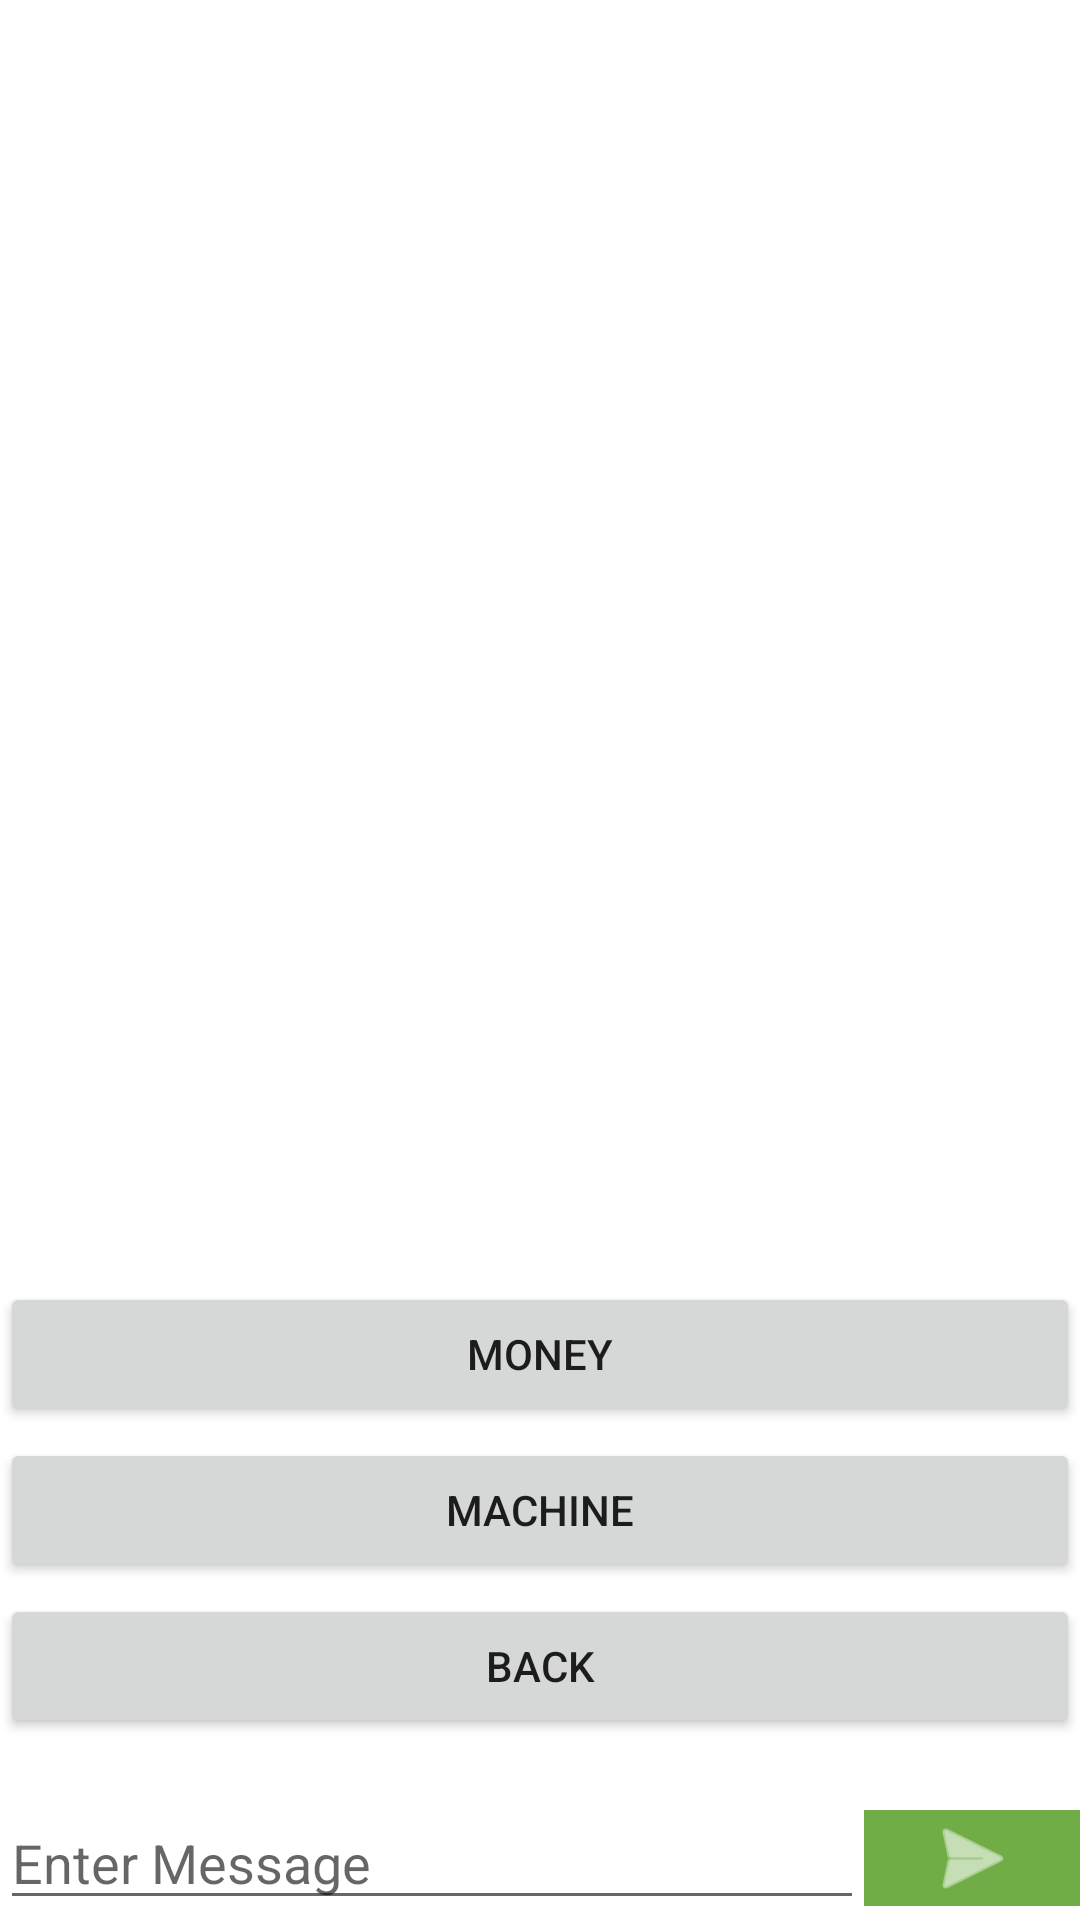

Screen size 1080px x 1920px. Icon name, then its box in pixels as (x1,y1,x2,y2):
send: (864,1810,1080,1906)
